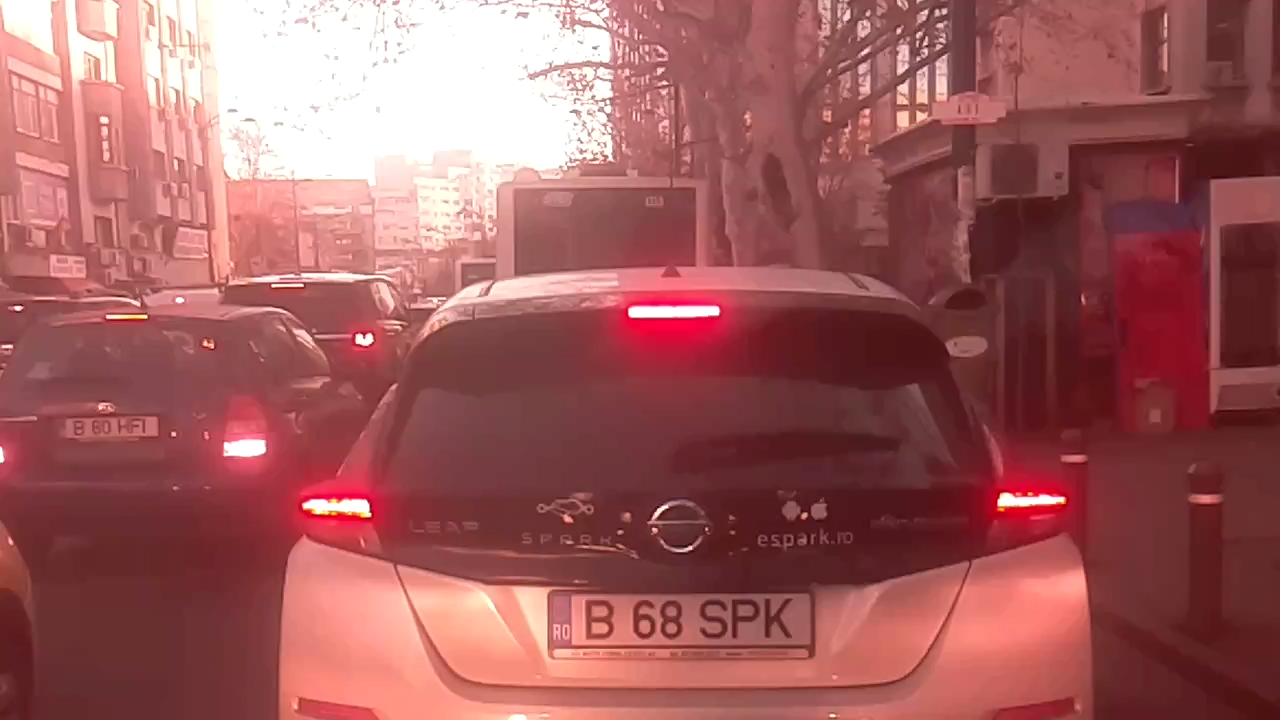license-plate: (541, 580, 825, 665), (52, 411, 164, 441)
